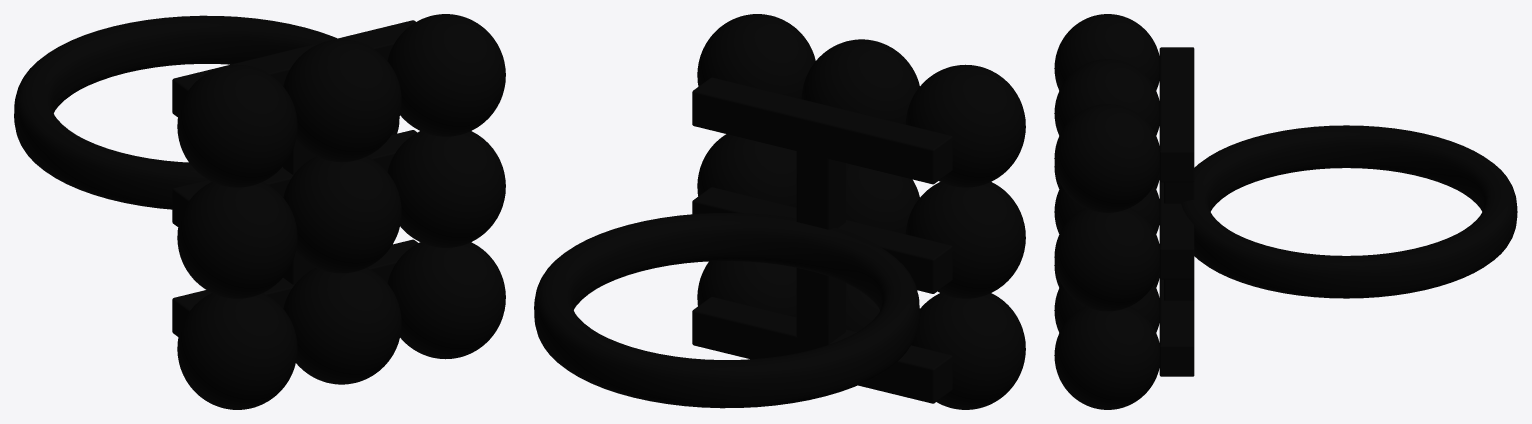
The model's file is ring6.gltf.
3 renders of one model, left to right at view 1: azimuth 30°, elevation 25°; view 2: azimuth 150°, elevation 25°; view 3: azimuth 270°, elevation 25°, orthographic. The views are drawn at different scales.
Visible parts, largest first — view 1: Mesh_Pearl (×9), Mesh_Ring, Cube.4, Cube.3, Cube.2, Cube.1; view 2: Mesh_Pearl (×9), Mesh_Ring, Cube.4, Cube.3, Cube.1, Cube.2; view 3: Mesh_Pearl (×7), Mesh_Ring, Cube.4, Cube.3, Cube.2, Cube.1.
Boxes of the visible parts, x1,y1,x2,y2 form: Mesh_Pearl (×9): (177, 14, 505, 409); Mesh_Ring: (14, 15, 399, 209); Cube.4: (172, 20, 415, 116); Cube.3: (172, 239, 418, 336); Cube.2: (172, 130, 416, 226); Cube.1: (282, 141, 315, 284); Mesh_Pearl (×9): (697, 14, 1025, 409); Mesh_Ring: (534, 213, 919, 408); Cube.4: (692, 77, 952, 184); Cube.3: (692, 297, 952, 403); Cube.1: (796, 150, 845, 344); Cube.2: (692, 187, 952, 293); Mesh_Pearl (×7): (1054, 14, 1159, 409); Mesh_Ring: (1181, 125, 1517, 298); Cube.4: (1159, 47, 1194, 182); Cube.3: (1159, 278, 1194, 376); Cube.2: (1159, 181, 1194, 279); Cube.1: (1164, 181, 1194, 300).
Size of the model in its own units: 0.0207 by 0.0197 by 0.028.
Materials: 2 (1 with a texture image).
